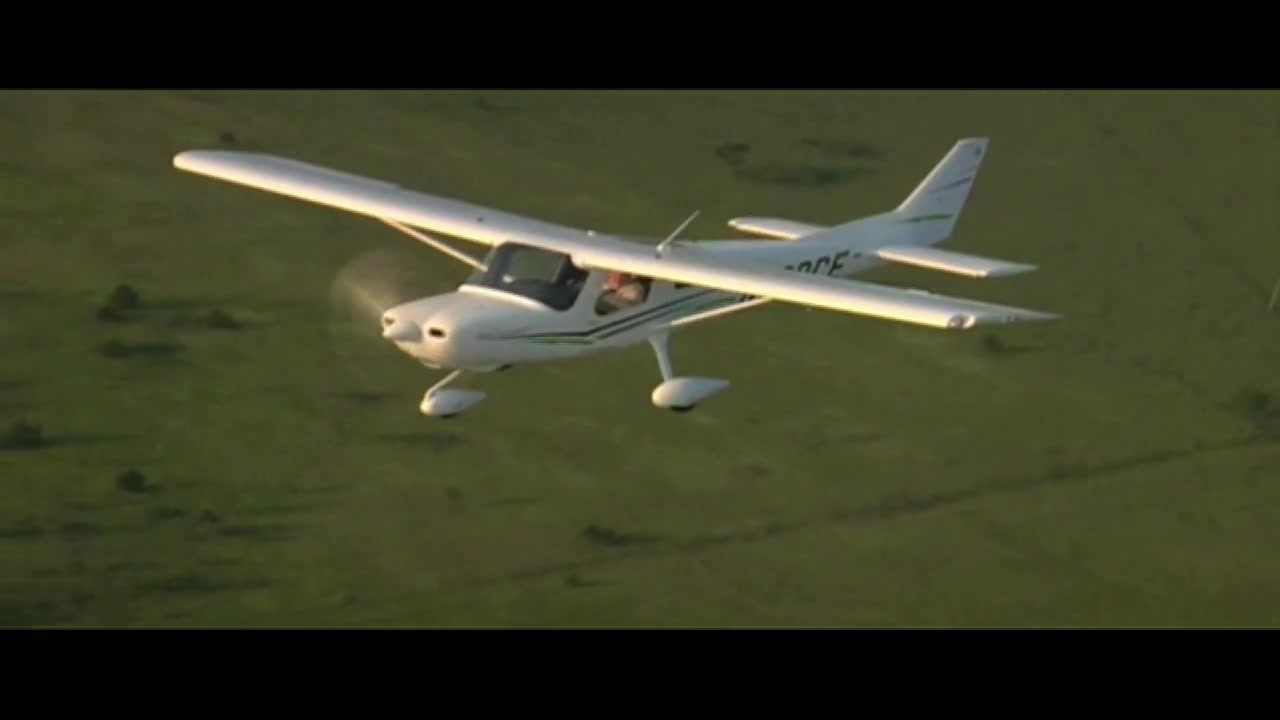aeroplane: (171, 132, 1066, 425)
